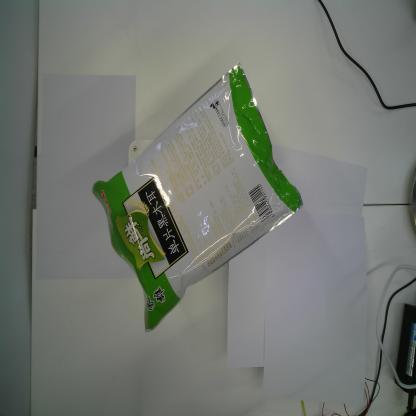Dried Food: (91, 59, 305, 334)
